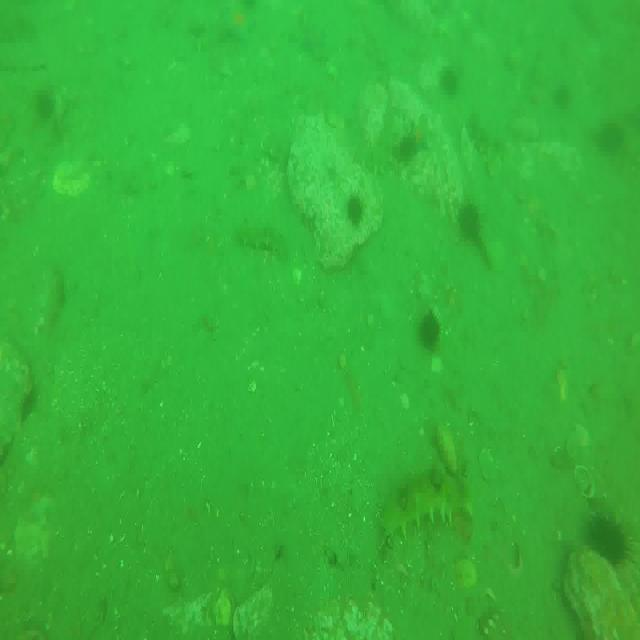echinus: (592, 512, 628, 572), (603, 120, 631, 162), (459, 205, 483, 241), (420, 313, 441, 351), (35, 86, 57, 122), (398, 130, 415, 171), (345, 191, 364, 226), (556, 82, 574, 115), (441, 65, 458, 93)
holothurian: (384, 476, 474, 540), (234, 218, 288, 257), (470, 112, 505, 159), (358, 142, 395, 176)
starfish: (213, 9, 256, 47), (408, 117, 432, 150)
